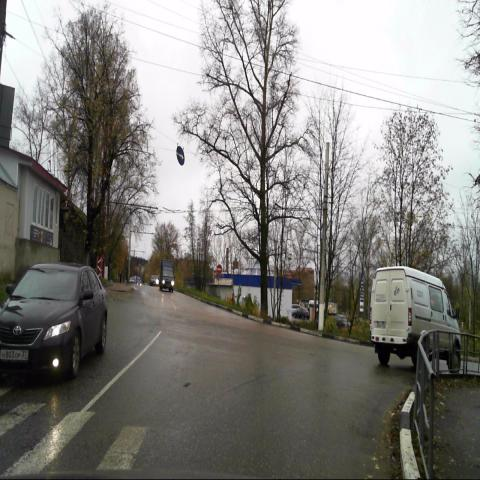4_1_2_1: (176, 145, 187, 167)
